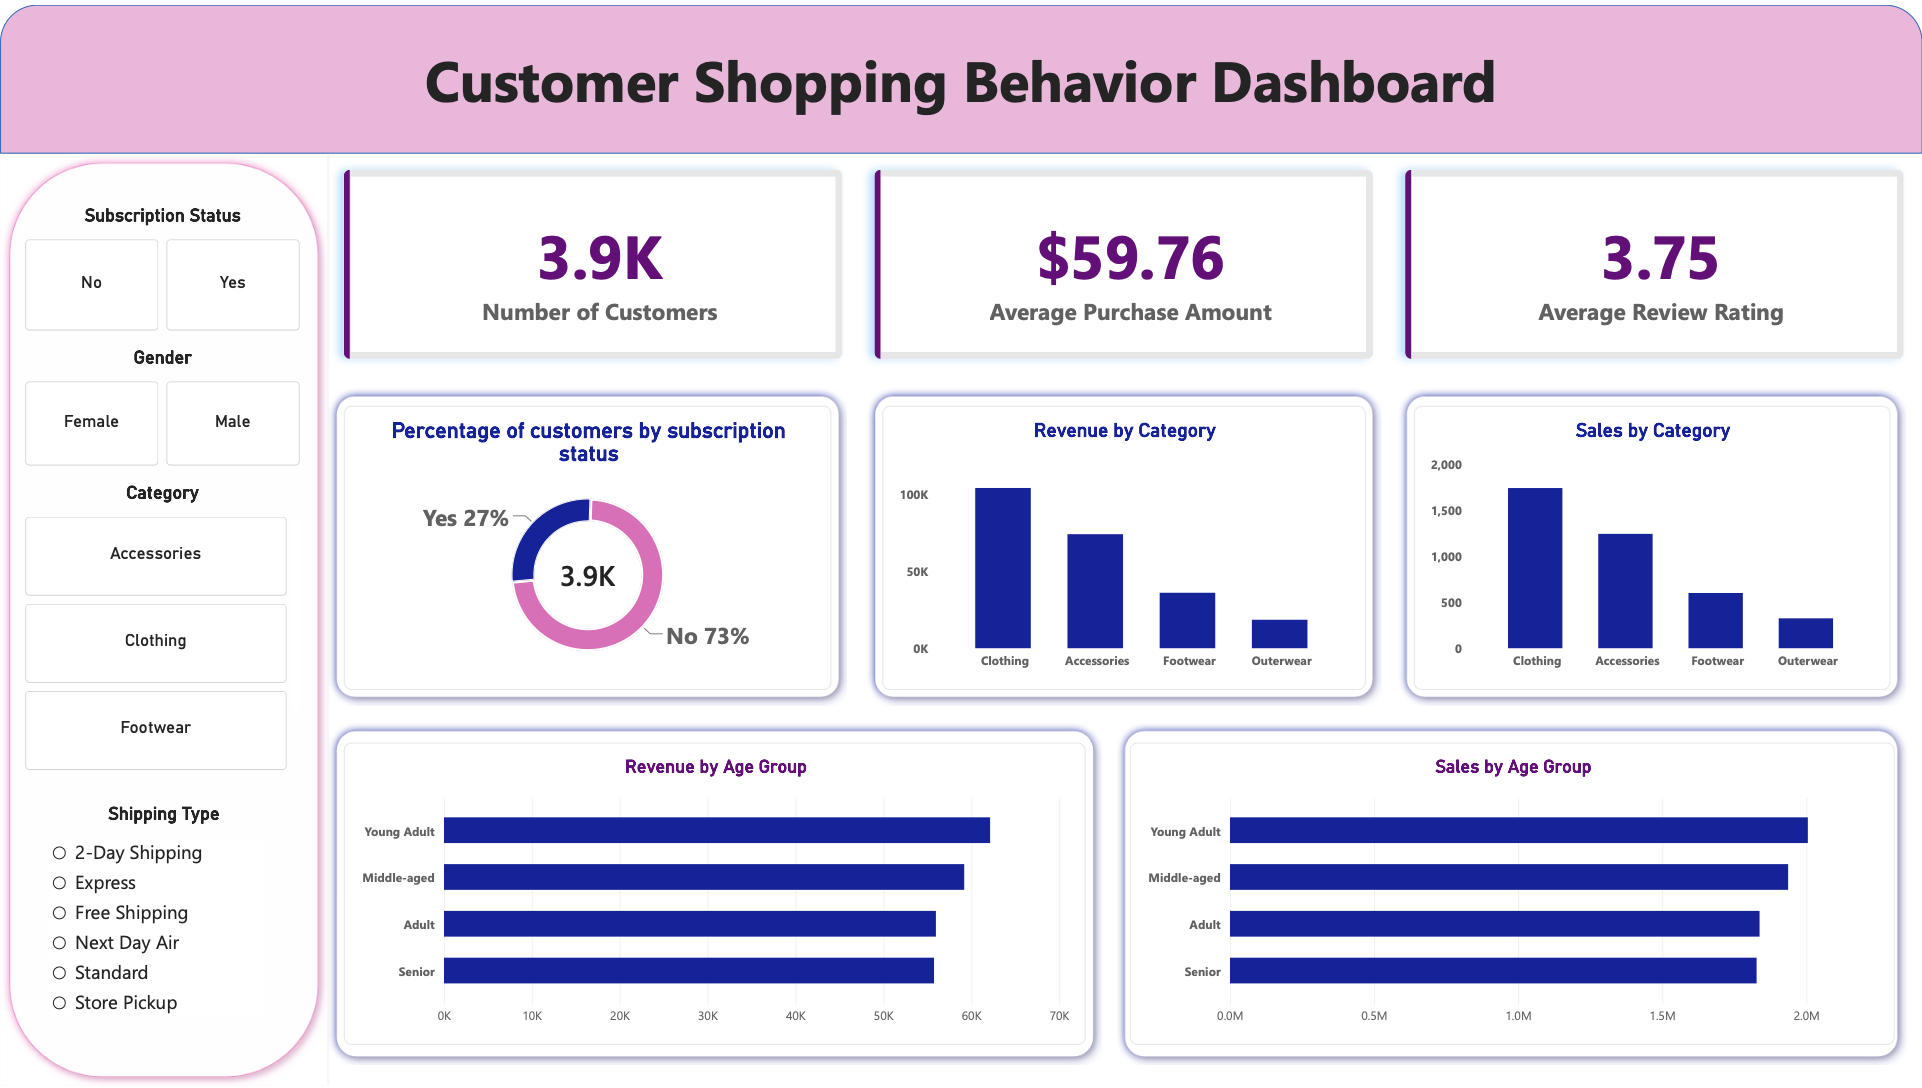

What the dashboard file says about the page in this screenshot:
{"tool":"powerbi","page":{"name":"Page 1","canvas":[1920,1080],"ordinal":0},"visuals":[{"type":"cardVisual","fields":{"Data":["customer_behavior_cleaned 3.Number of Customers","customer_behavior_cleaned 3.Average Purchase Amount","customer_behavior_cleaned 3.Average Review Rating"]},"box":[327.2,148.7,1592.8,222],"z":0},{"type":"shape","box":[0,0,1920,148.7],"z":1000},{"type":"textbox","box":[0,36.6,1920,87],"z":2000},{"type":"shape","box":[327.2,382.2,519.5,318.1],"z":3000},{"type":"donutChart","title":"Percentage of customers by subscription status","fields":{"Category":["customer_behavior_cleaned 3.subscription_status"],"Y":["CountNonNull(customer_behavior_cleaned 3.customer_id)"]},"box":[343.3,400.5,487.4,283.8],"z":4000},{"type":"shape","box":[865,382.2,514.9,318.1],"z":5000},{"type":"shape","box":[1395.9,382.2,508,318.1],"z":6000},{"type":"clusteredColumnChart","title":"Revenue by Category","fields":{"Category":["customer_behavior_cleaned 3.category"],"Y":["Sum(customer_behavior_cleaned 3.purchase_amount)"]},"box":[881,400.5,482.9,283.8],"z":7000},{"type":"clusteredColumnChart","title":"Sales by Category","fields":{"Category":["customer_behavior_cleaned 3.category"],"Y":["CountNonNull(customer_behavior_cleaned 3.customer_id)"]},"box":[1412,400.5,476,283.8],"z":8000},{"type":"shape","box":[0,148.7,327.2,931.4],"z":9000},{"type":"advancedSlicerVisual","title":"Subscription Status","fields":{"Values":["customer_behavior_cleaned 3.subscription_status"]},"box":[25.2,201.4,274.6,123.6],"z":10000},{"type":"advancedSlicerVisual","title":"Gender","fields":{"Values":["customer_behavior_cleaned 3.gender"]},"box":[25.2,343.3,274.6,116.7],"z":10001},{"type":"advancedSlicerVisual","title":"Category","fields":{"Values":["customer_behavior_cleaned 3.category"]},"box":[25.2,478.3,274.6,286.1],"z":10002},{"type":"listSlicer","fields":{"Values":["customer_behavior_cleaned 3.shipping_type"]},"box":[34.3,784.9,258.6,254],"z":10003},{"type":"shape","box":[327.2,716.3,773.5,343.3],"z":10005},{"type":"shape","box":[1114.5,716.3,789.5,343.3],"z":10006},{"type":"clusteredBarChart","title":"Sales by Age Group","fields":{"Category":["customer_behavior_cleaned 3.age_group"],"Y":["Sum(customer_behavior_cleaned 3.customer_id)"]},"box":[1128.2,736.9,764.3,302.1],"z":10007},{"type":"clusteredBarChart","title":"Revenue by Age Group","fields":{"Category":["customer_behavior_cleaned 3.age_group"],"Y":["Sum(customer_behavior_cleaned 3.purchase_amount)"]},"box":[343.3,736.9,741.5,302.1],"z":10009}]}

Visuals, with their boxes in screenshot pixels (x1, y1, x2, y2), scaled from the page's 1920x1080 canvas onto the 1922x1088 screenshot:
cardVisual - customer_behavior_cleaned 3.Number of Customers x customer_behavior_cleaned 3.Average Purchase Amount: locate(328, 150, 1921, 373)
shape: locate(0, 0, 1921, 150)
textbox: locate(0, 37, 1921, 125)
shape: locate(328, 385, 848, 705)
"Percentage of customers by subscription status" donutChart: locate(344, 403, 832, 689)
shape: locate(866, 385, 1381, 705)
shape: locate(1397, 385, 1906, 705)
"Revenue by Category" clusteredColumnChart: locate(882, 403, 1365, 689)
"Sales by Category" clusteredColumnChart: locate(1413, 403, 1890, 689)
shape: locate(0, 150, 328, 1087)
"Subscription Status" advancedSlicerVisual: locate(25, 203, 300, 327)
"Gender" advancedSlicerVisual: locate(25, 346, 300, 463)
"Category" advancedSlicerVisual: locate(25, 482, 300, 770)
listSlicer - customer_behavior_cleaned 3.shipping_type: locate(34, 791, 293, 1047)
shape: locate(328, 722, 1102, 1067)
shape: locate(1116, 722, 1906, 1067)
"Sales by Age Group" clusteredBarChart: locate(1129, 742, 1894, 1047)
"Revenue by Age Group" clusteredBarChart: locate(344, 742, 1086, 1047)
